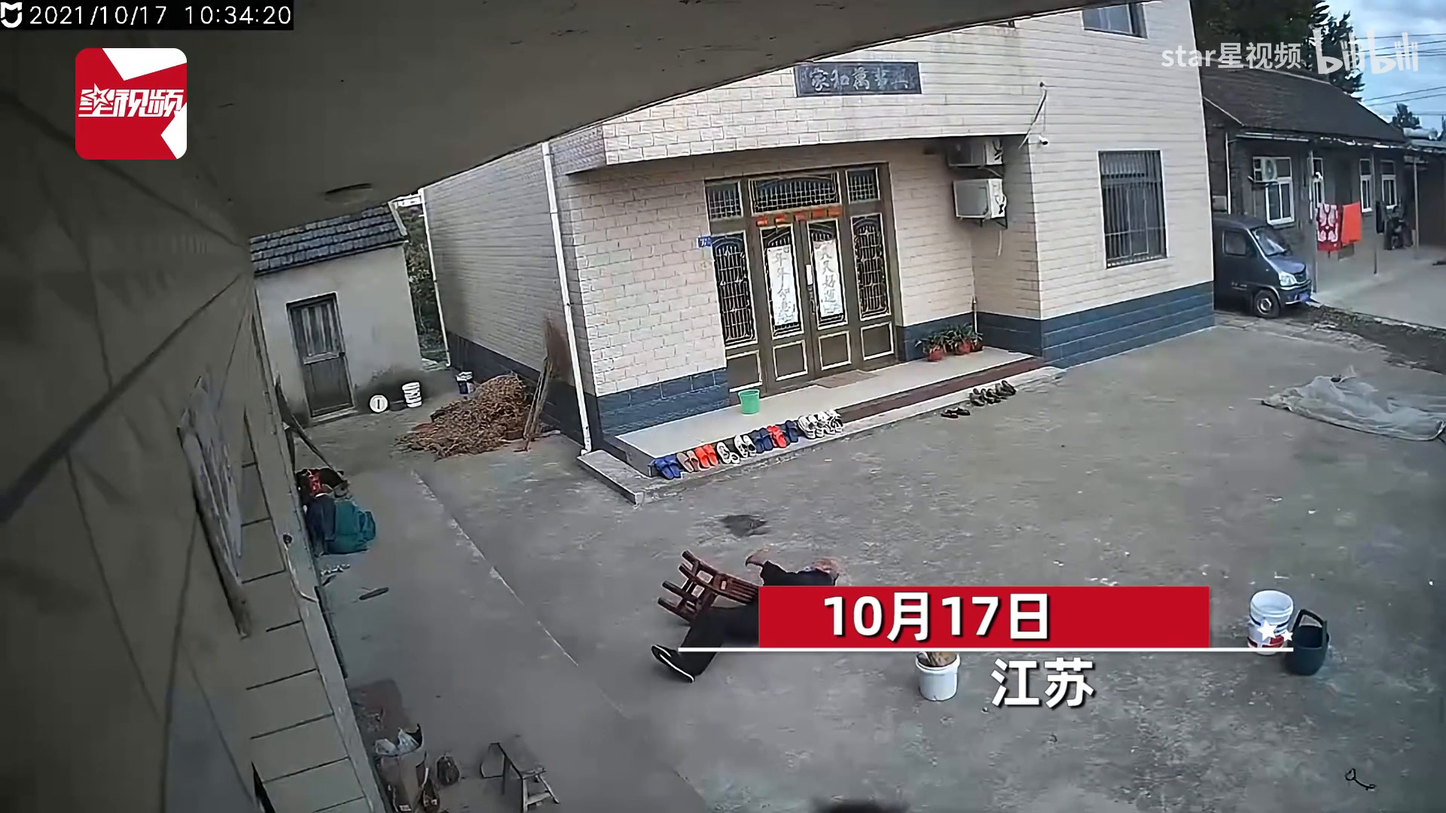fall_down: (649, 548, 840, 683)
